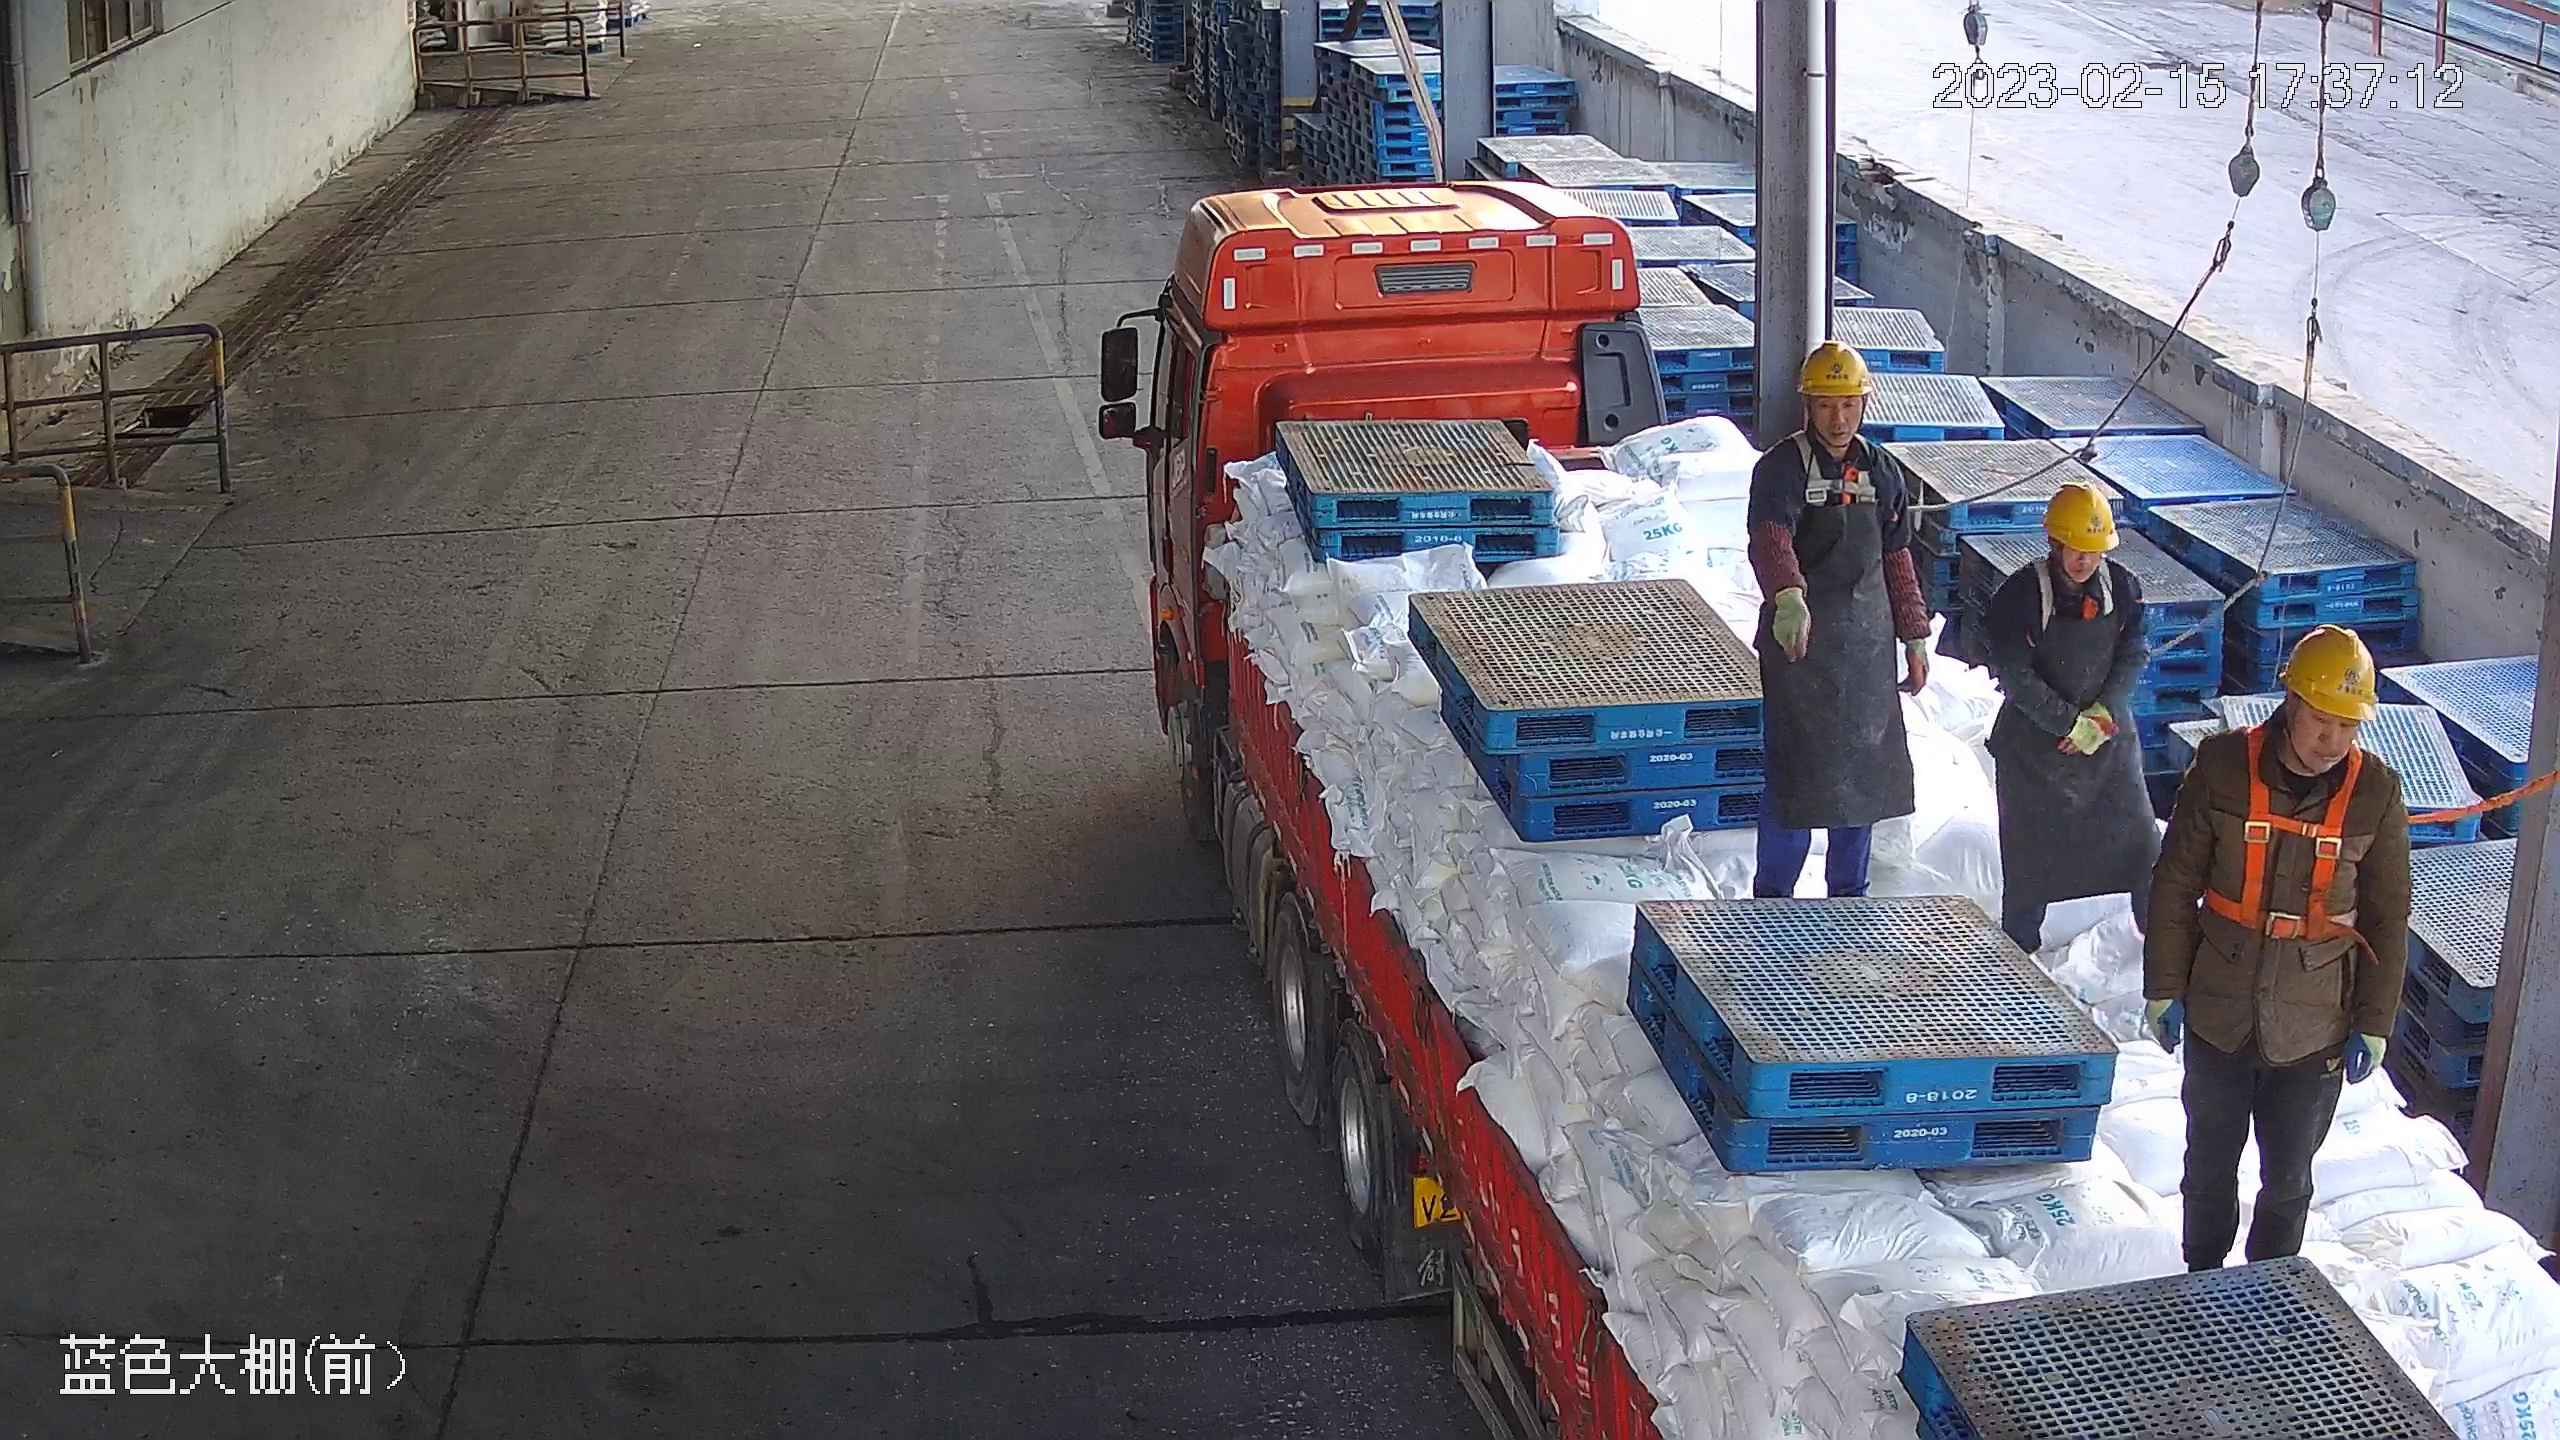belt: (2196, 716, 2370, 951), (1790, 414, 1894, 527), (2020, 549, 2125, 632)
head: (2164, 632, 2420, 847), (1759, 342, 1912, 525), (1986, 486, 2151, 640)
helmet: (2281, 620, 2386, 725), (2040, 488, 2123, 547), (1799, 344, 1881, 392)
people: (2153, 625, 2418, 1305), (1742, 342, 1935, 911), (1988, 482, 2155, 968)
truck: (1088, 171, 2560, 1440)
